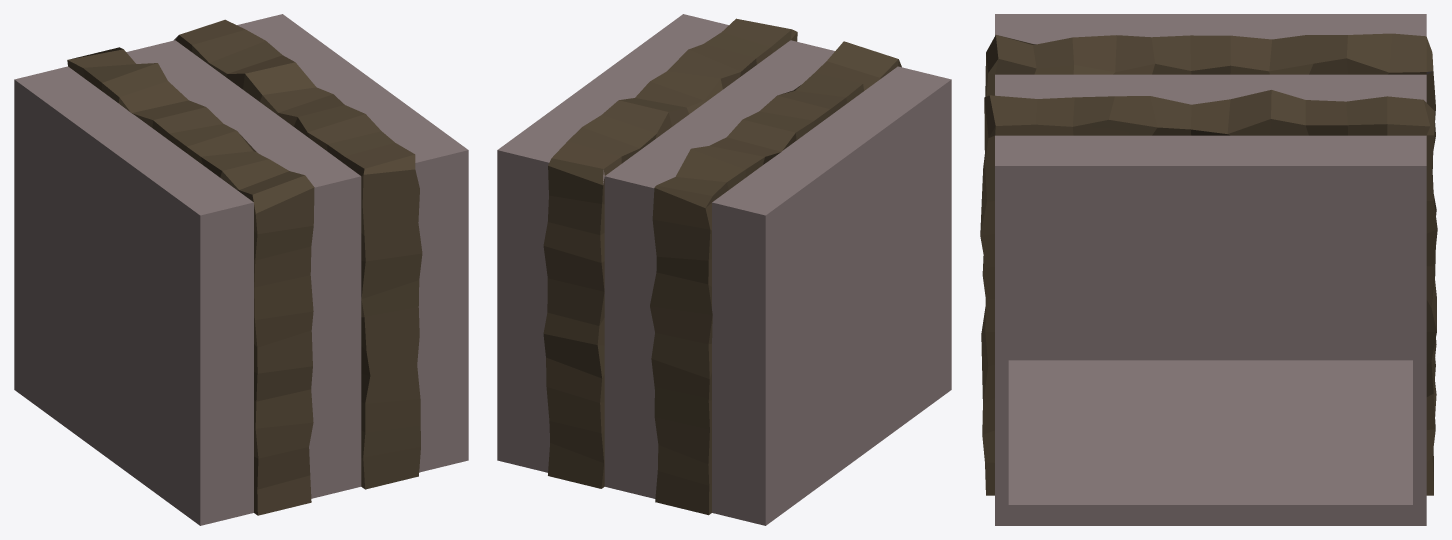
The model's file is Safe_Main.fbx.
The picture shows the model from 3 angles, left to right: view 1: azimuth 30°, elevation 25°; view 2: azimuth 150°, elevation 25°; view 3: azimuth 270°, elevation 25°; orthographic projection. The views are drawn at different scales.
Parts seen in each view (by area): view 1: Safe_body; view 2: Safe_body; view 3: Safe_body.
Part boxes in pixels (left/top/right/bottom): Safe_body: left=14, top=14, right=468, bottom=525; Safe_body: left=497, top=14, right=951, bottom=525; Safe_body: left=980, top=14, right=1437, bottom=525.
Bounding box in the file's own units: 83.32 × 96.57 × 106.
